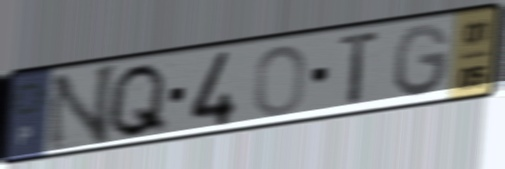4: (187, 48, 240, 130)
G: (392, 21, 453, 101)
N: (44, 60, 121, 156)
O: (251, 42, 309, 119)
Q: (104, 60, 171, 141)
T: (337, 27, 385, 111)
